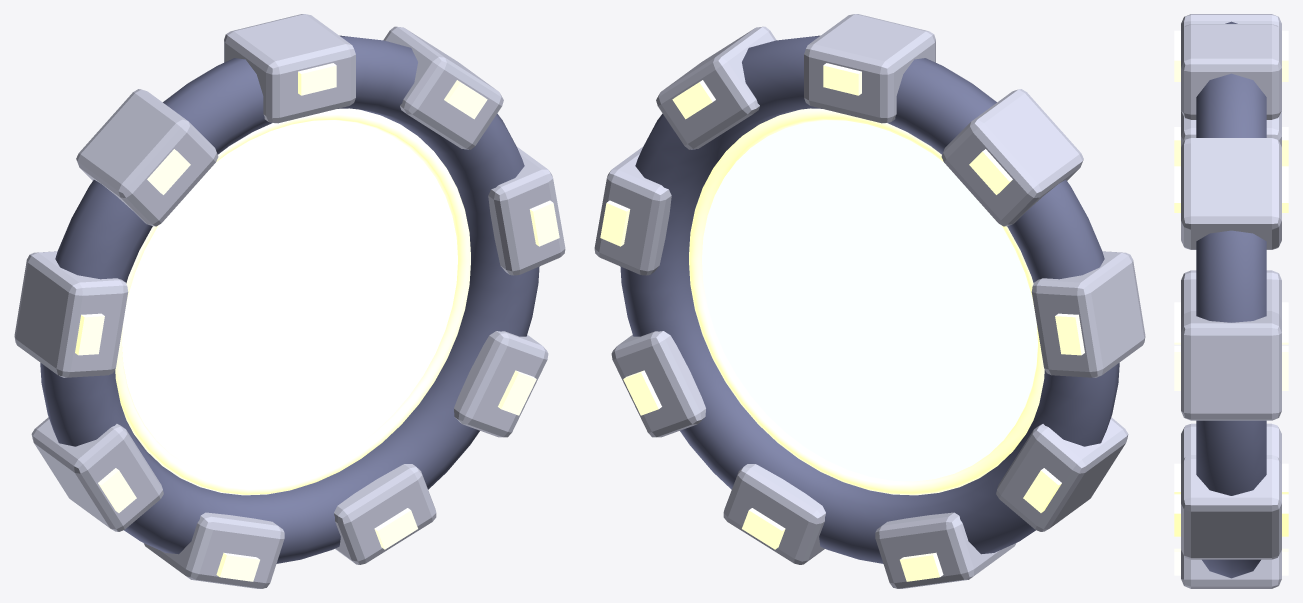
Rendered from stargate.glb.
The picture shows the model from 3 angles, left to right: view 1: azimuth 30°, elevation 25°; view 2: azimuth 150°, elevation 25°; view 3: azimuth 270°, elevation 25°; orthographic projection.
Visible parts, largest first — view 1: StargateCore, StargateClamps, StargateRing, StargateInner, StargateLamps; view 2: StargateCore, StargateClamps, StargateRing, StargateInner, StargateLamps; view 3: StargateClamps, StargateRing, StargateLamps.
Boxes of the visible parts, <box> form: StargateCore: <box>122,120,457,481</box>; StargateClamps: <box>14,14,565,588</box>; StargateRing: <box>40,35,539,563</box>; StargateInner: <box>115,108,470,495</box>; StargateLamps: <box>75,63,559,581</box>; StargateCore: <box>702,120,1037,481</box>; StargateClamps: <box>594,14,1145,588</box>; StargateRing: <box>620,35,1119,563</box>; StargateInner: <box>689,108,1044,495</box>; StargateLamps: <box>600,63,1084,581</box>; StargateClamps: <box>1181,14,1281,588</box>; StargateRing: <box>1196,21,1266,578</box>; StargateLamps: <box>1174,30,1288,575</box>.
Size of the model in its own units: 1.72 by 1.69 by 0.34.
